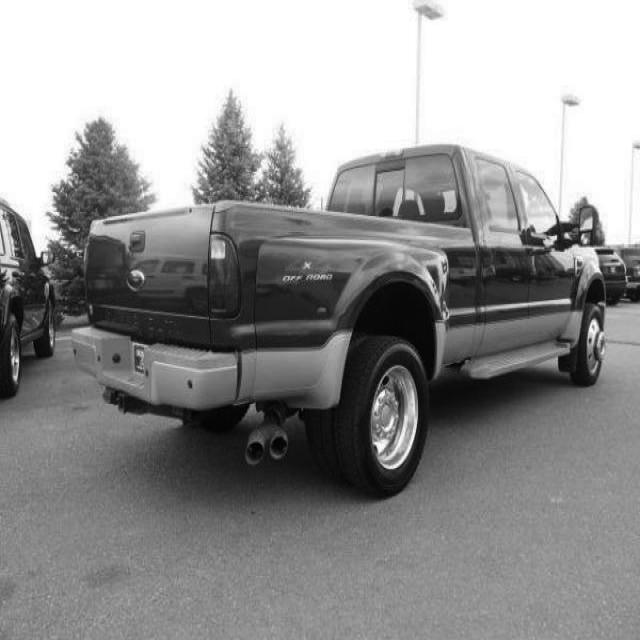car: (66, 125, 628, 496), (0, 194, 56, 398), (567, 234, 627, 308), (605, 238, 640, 294)
